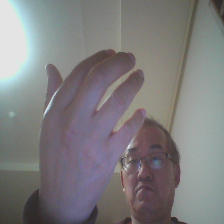hand: (38, 44, 153, 220)
